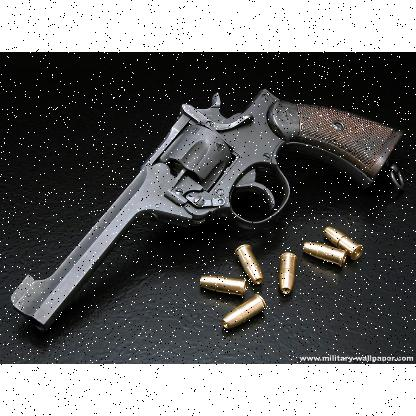gun: (11, 86, 404, 330)
